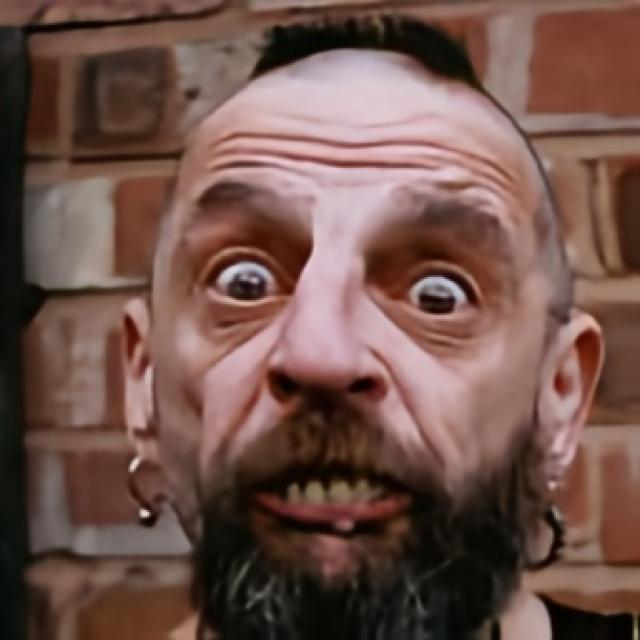Fear: (149, 48, 548, 640)
